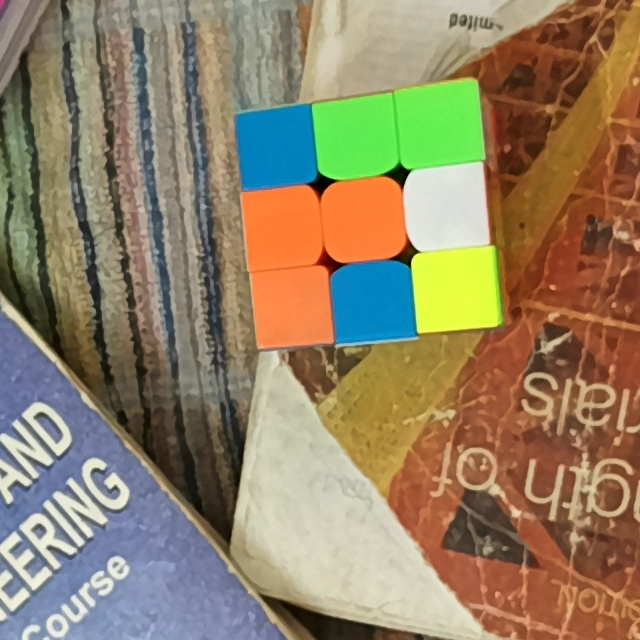tile: (420, 258, 492, 322), (417, 172, 483, 241), (249, 192, 315, 261), (330, 188, 396, 253), (408, 92, 475, 156), (245, 115, 308, 181), (323, 105, 387, 169), (343, 271, 408, 334), (261, 274, 325, 337)
